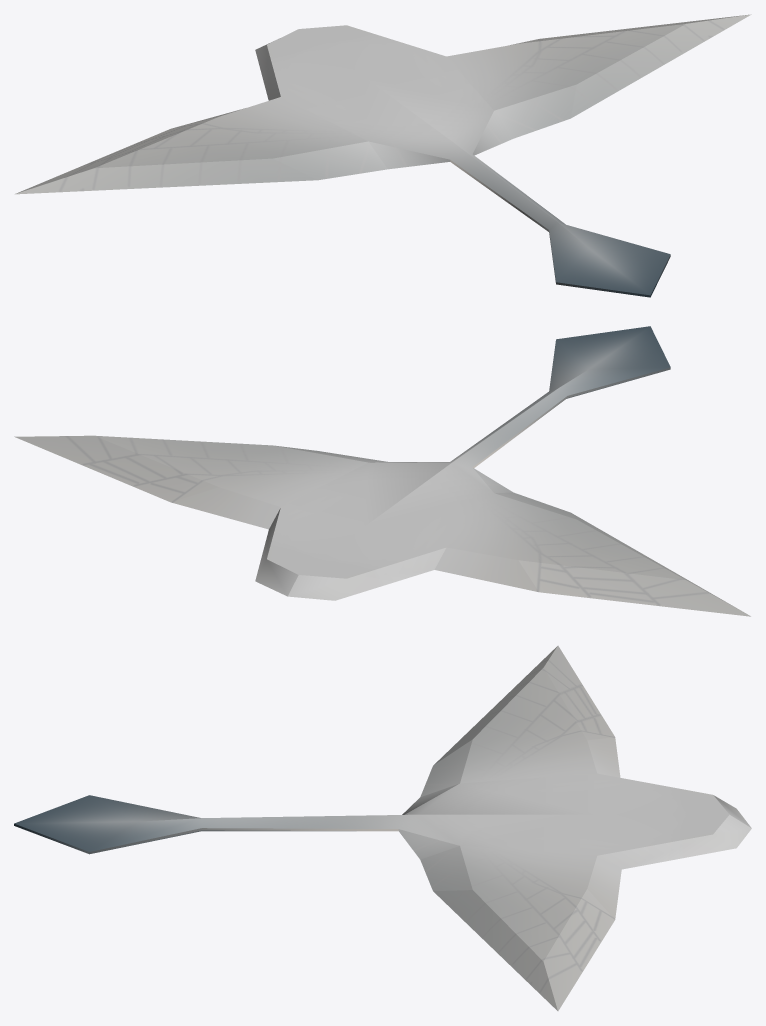
The model's file is tori.fbx.
The picture shows the model from 3 angles, top to bottom: view 1: azimuth 30°, elevation 25°; view 2: azimuth 150°, elevation 25°; view 3: azimuth 270°, elevation 25°; orthographic projection.
Parts seen in each view (by area): view 1: Box001; view 2: Box001; view 3: Box001.
Boxes of the visible parts, x1,y1,x2,y2 form: Box001: (15, 14, 751, 297); Box001: (14, 326, 750, 616); Box001: (14, 645, 751, 1011).
Size of the model in its own units: 44.7 by 0.9461 by 38.07.
Materials: 1 (1 with a texture image).
